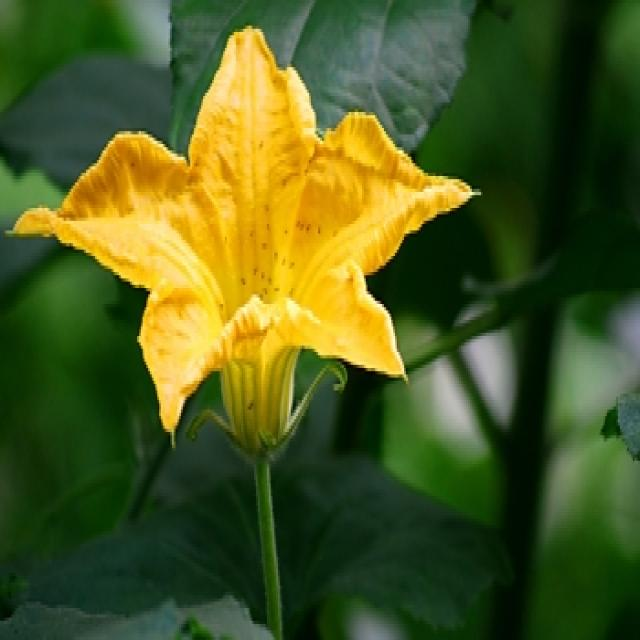flower: (6, 17, 487, 485)
